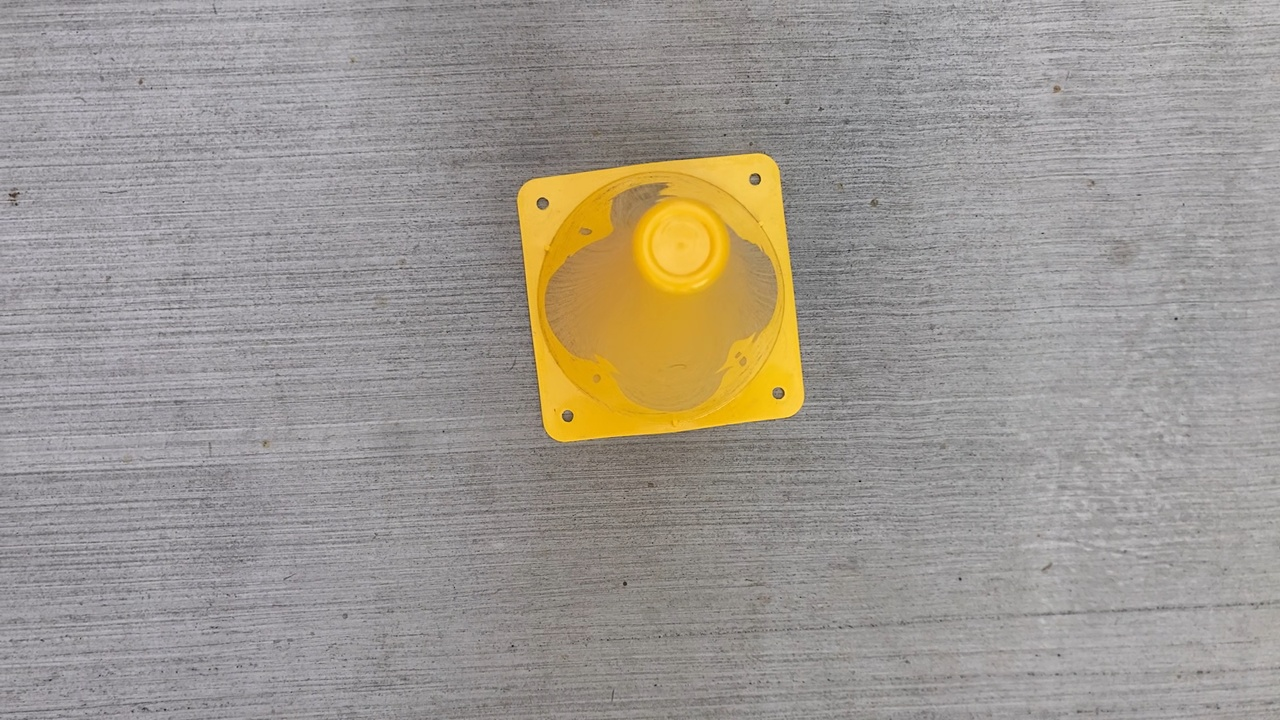yellow_cone: (513, 150, 808, 445)
